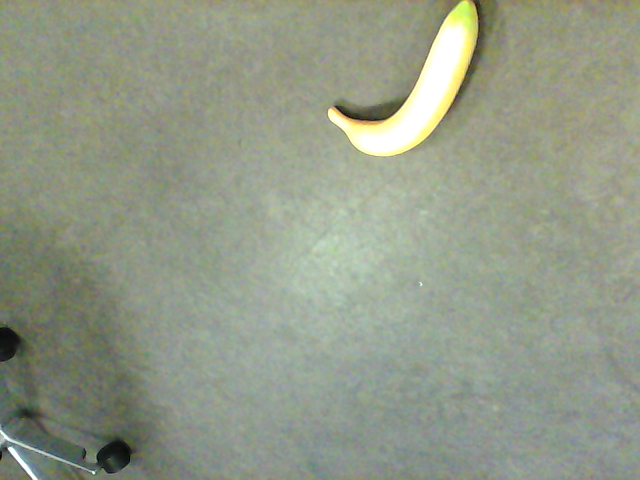banana: (327, 1, 478, 155)
